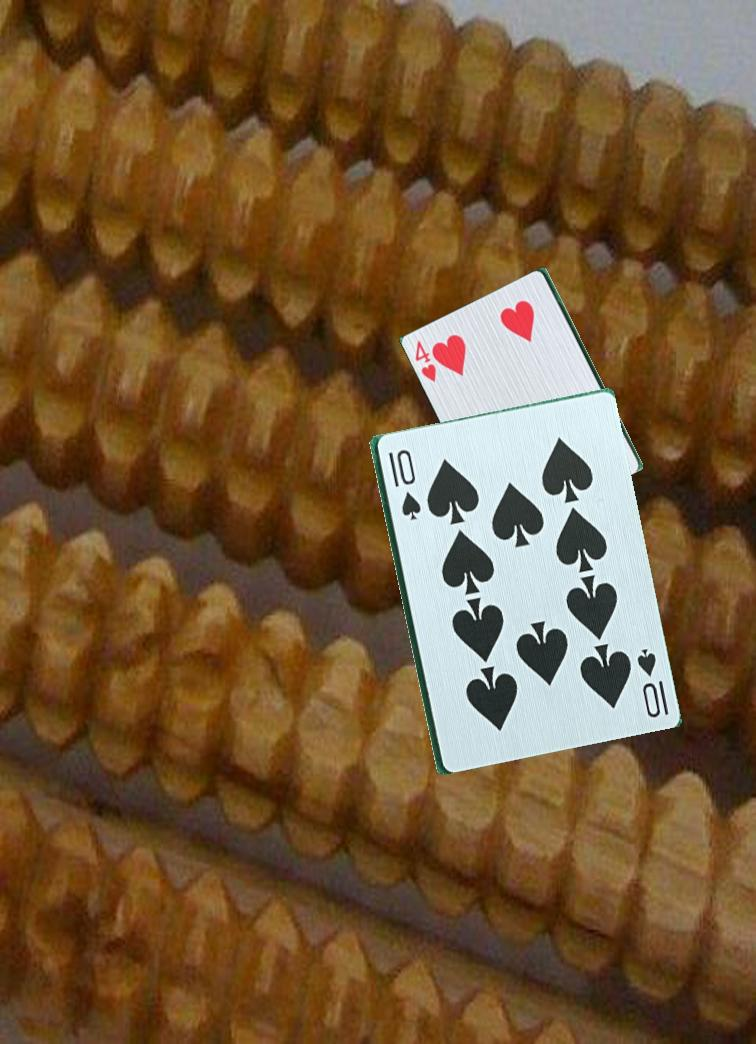4h: (412, 331, 448, 389)
ts: (632, 644, 671, 721), (384, 445, 421, 523)
